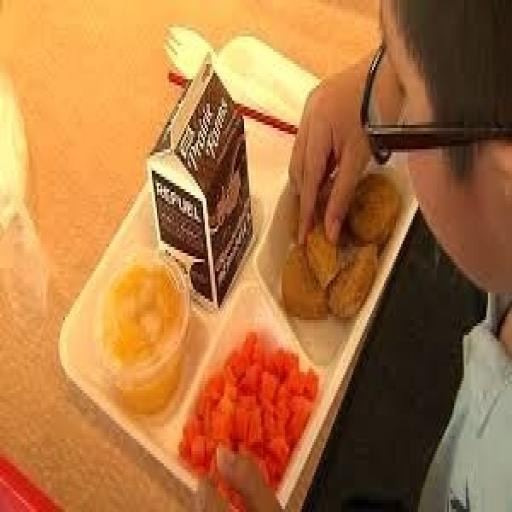eating: (214, 0, 510, 509)
